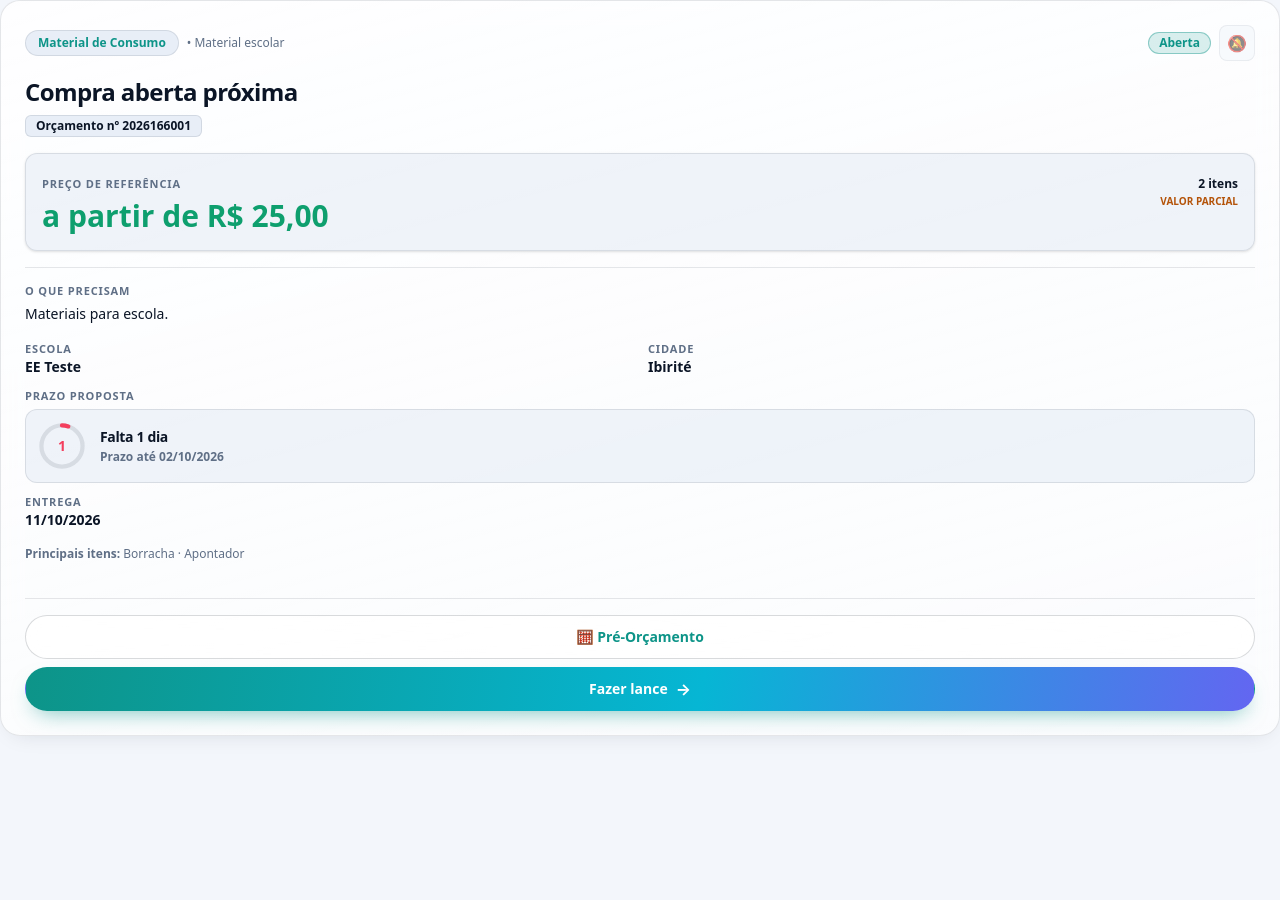
it: OpportunityCard modal › abre e fecha modal com itens carregados
Click the button. click: point(640, 368)
box: [0,0,1279,736]
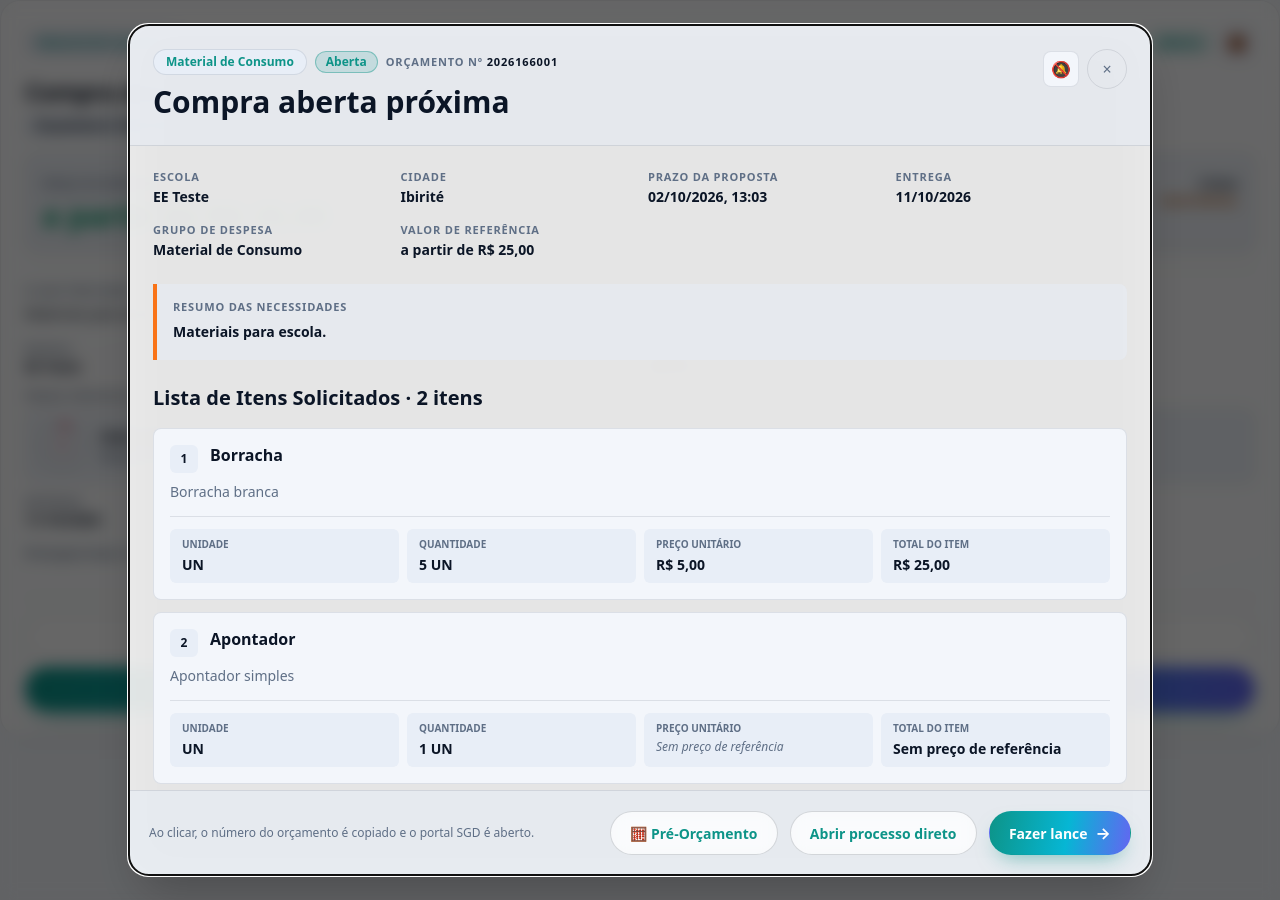
Expected: the text "a partir de R$ 25,00" is shown, [42,198,329,234]
Expected: the dialog is shown
Click the button "×". click: point(1107, 69)
box: [1087,49,1127,89]
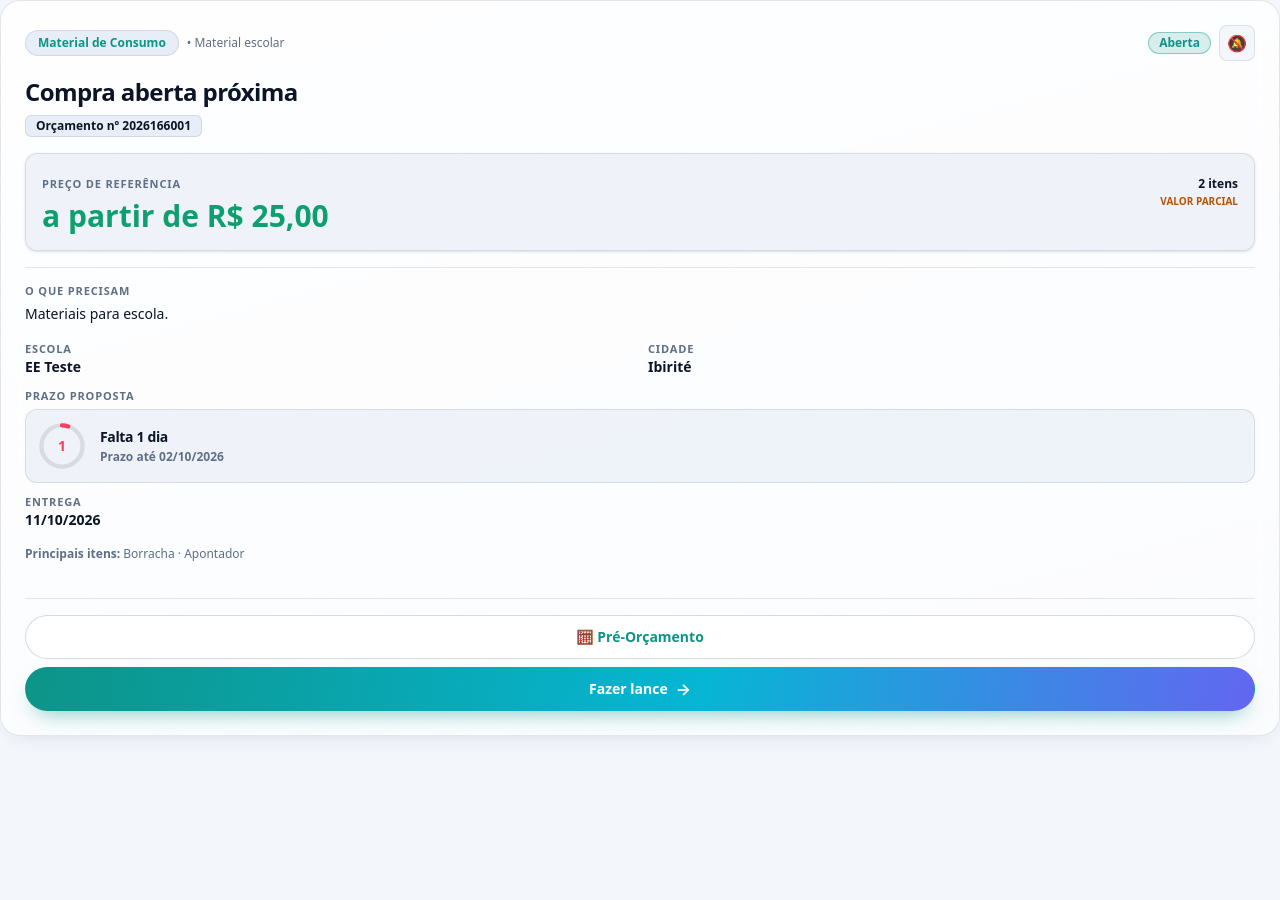
Expected: the dialog is gone
